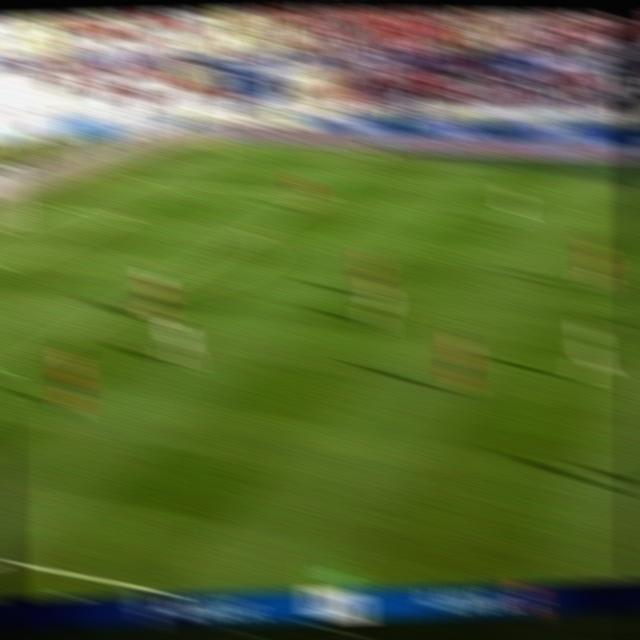bigarea_bottom_inner: (0, 361, 14, 382)
bigarea_top_inner: (308, 186, 330, 200)
bigarea_top_outter: (130, 173, 150, 184)
corner: (203, 145, 225, 155)
smallarea_top_inner: (111, 207, 133, 221)
smallarea_top_outter: (50, 201, 74, 216)
top_arc_area_intersection: (241, 226, 263, 240)
